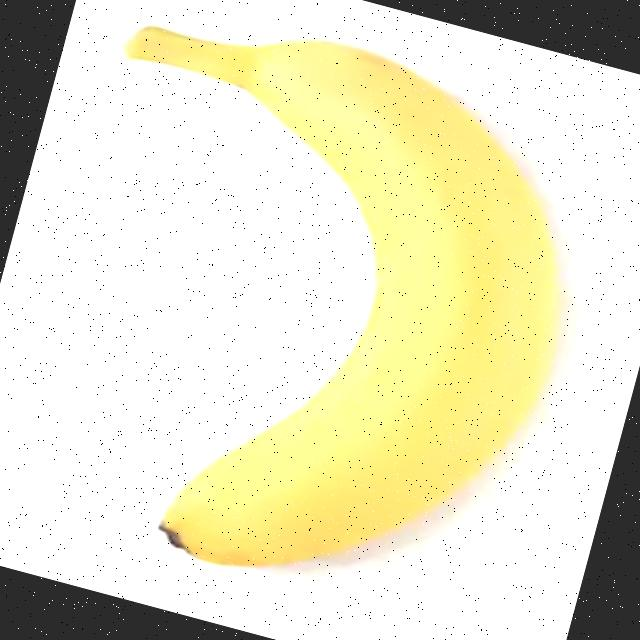banana: (0, 0, 618, 637)
